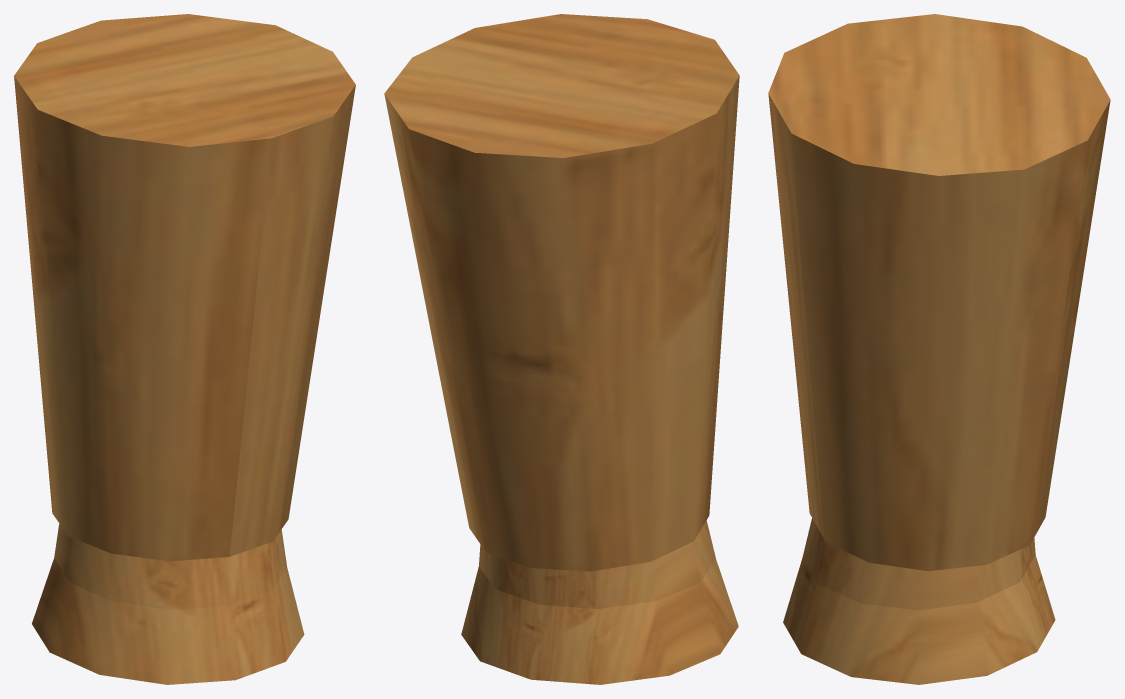
The model's file is ButterChurn_Bot.fbx.
3 views of the same model, side by side, from view 1: azimuth 30°, elevation 25°; view 2: azimuth 150°, elevation 25°; view 3: azimuth 270°, elevation 25° (orthographic).
Visible parts, largest first — view 1: ButterChurn; view 2: ButterChurn; view 3: ButterChurn.
Part boxes in pixels (bbox=[...]): ButterChurn: bbox=[14, 14, 355, 684]; ButterChurn: bbox=[384, 14, 739, 684]; ButterChurn: bbox=[768, 14, 1110, 684].
Bounding box in the file's own units: 43.15 × 76.32 × 42.79.
